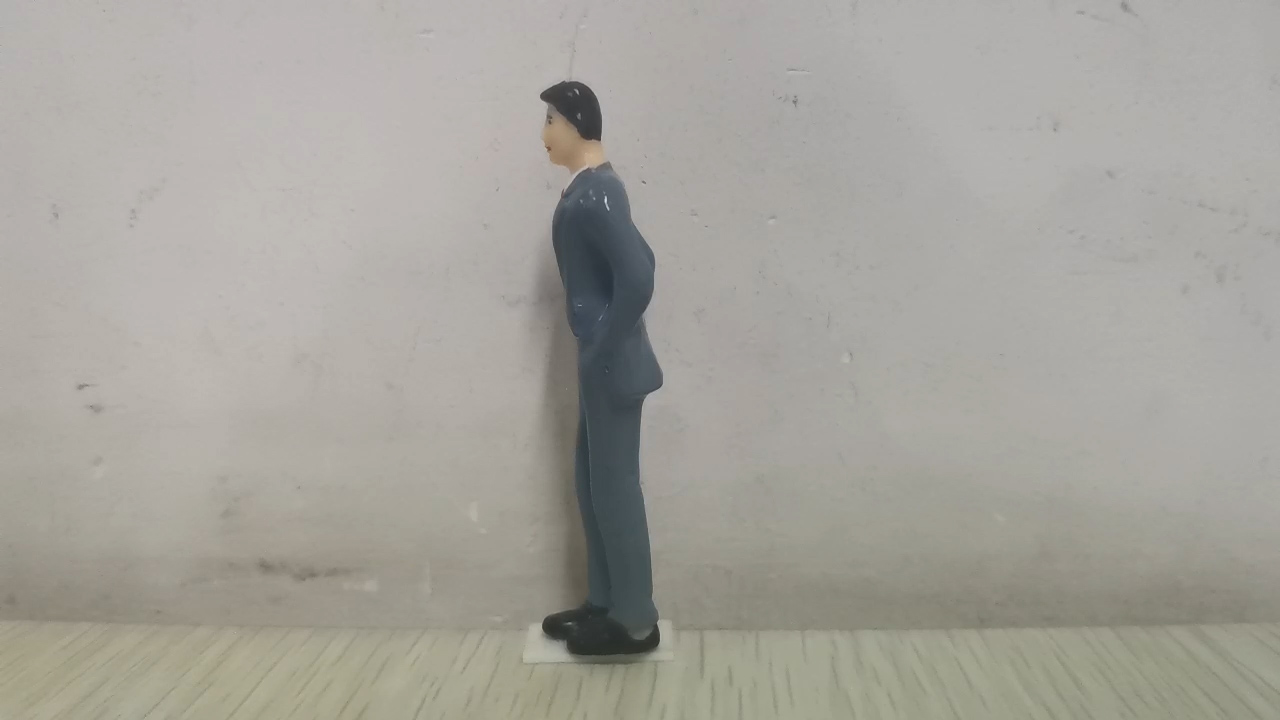person: (537, 80, 667, 657)
